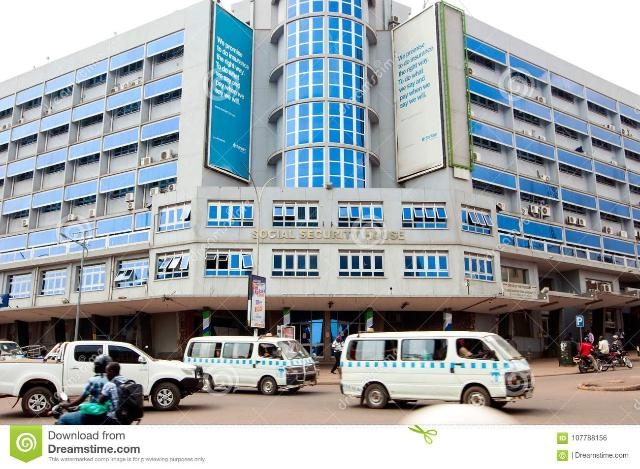car: (572, 349, 604, 375)
pickup-truck: (0, 335, 205, 413)
van: (340, 330, 534, 408), (195, 334, 317, 397)
